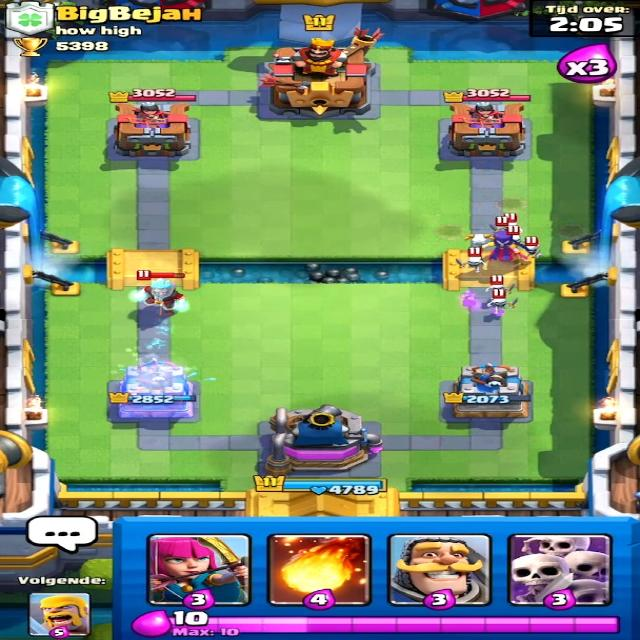Enemy_Ice_Wizard_Troop: (131, 280, 190, 312)
Enemy_Skeleton_Troop: (477, 292, 518, 317), (456, 252, 485, 276), (480, 281, 515, 298), (527, 240, 546, 259)
Enemy_Witch_Troop: (456, 225, 530, 268)
Fireball_Card: (276, 537, 368, 604)
